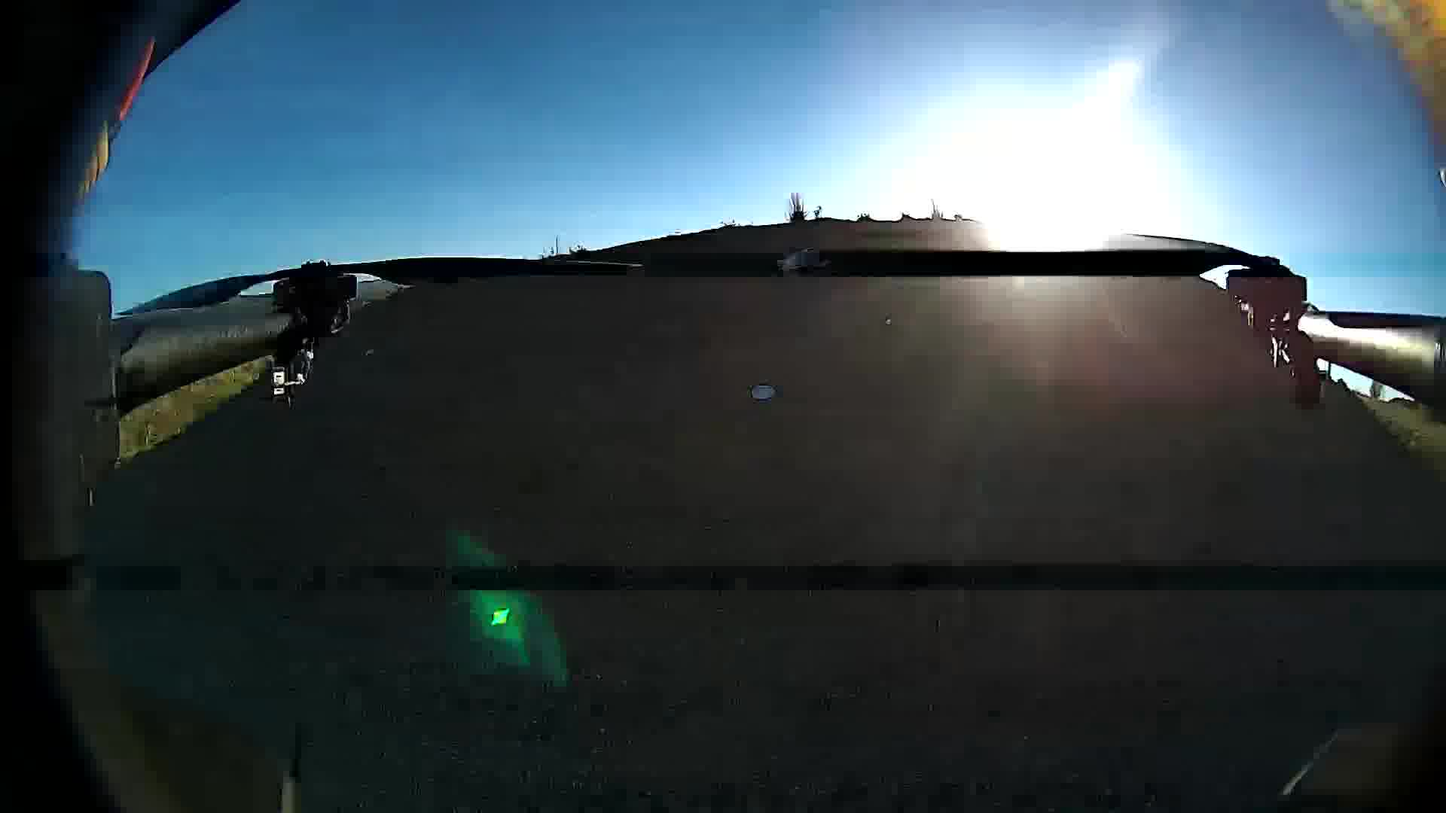Target: (750, 384, 776, 400)
